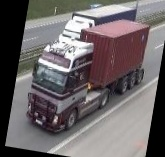truck: (22, 7, 151, 148)
